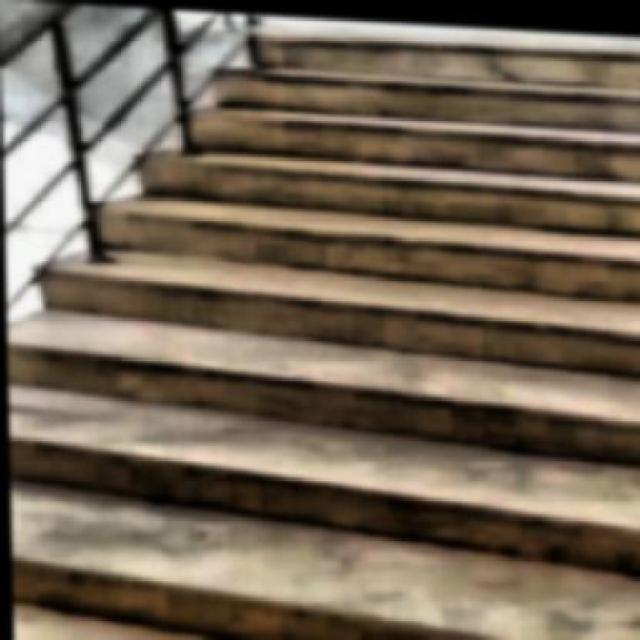stair: (0, 3, 638, 638)
